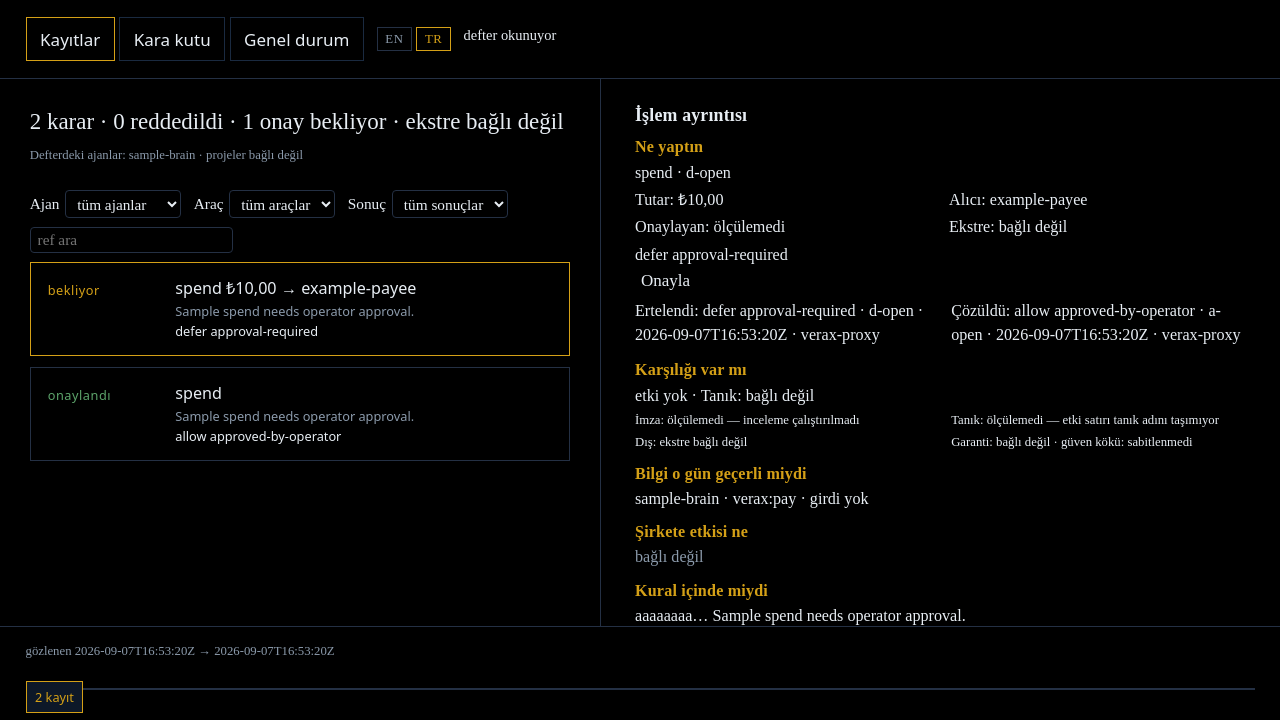
Scenario: approving from the record › draws no control on a record that is not waiting
Click the button that starts with "onaylandı" at (300, 414), box [30,367,570,461]
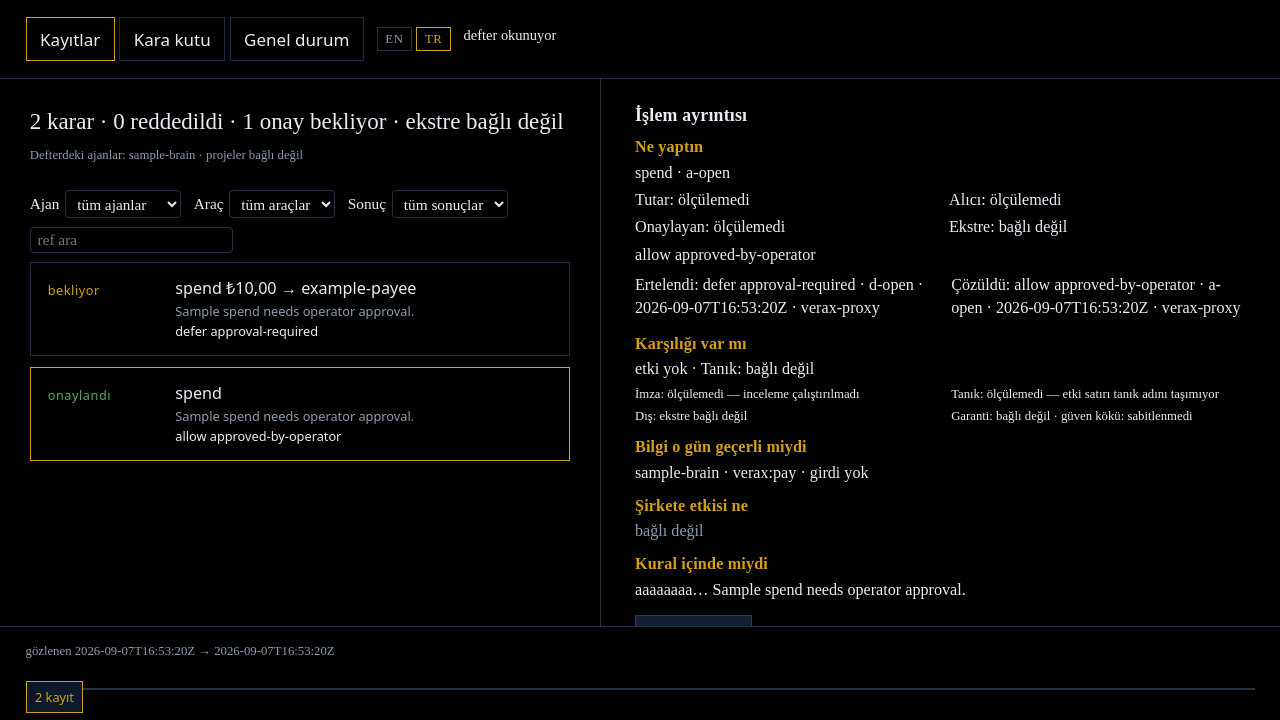
Check: the element with test id "record-approve" is gone
